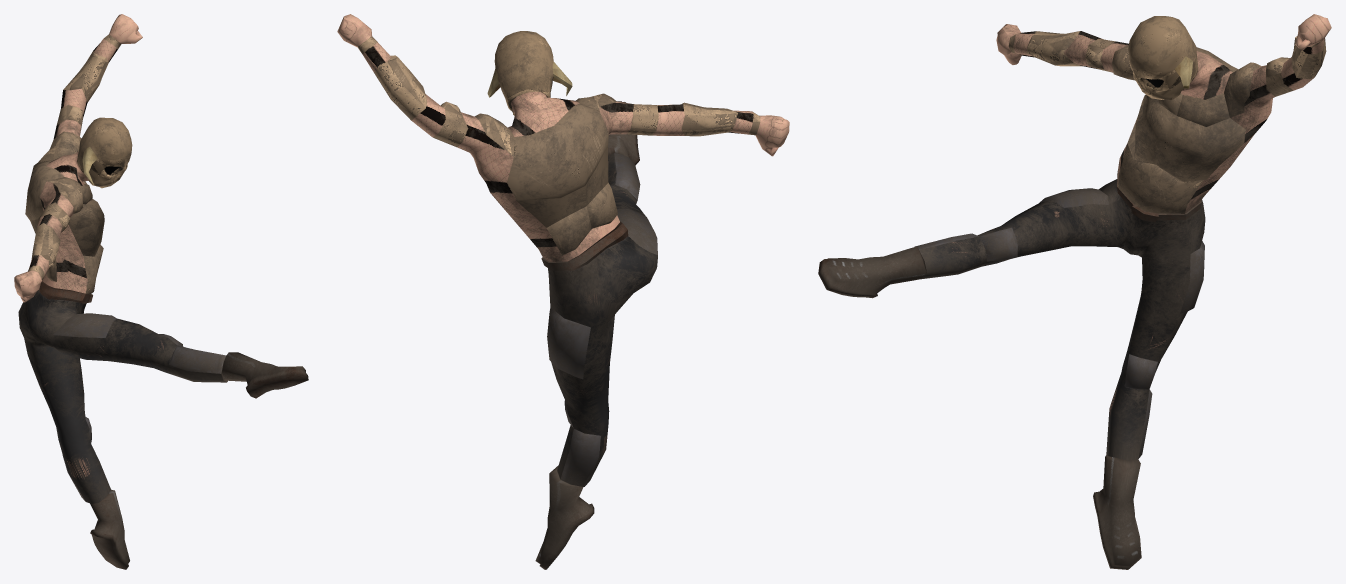
The model's file is Anim_ataque_f3_npc1.0027.obj.
3 renders of one model, left to right at view 1: azimuth 30°, elevation 25°; view 2: azimuth 150°, elevation 25°; view 3: azimuth 270°, elevation 25°, orthographic. The views are drawn at different scales.
Visible parts, largest first — view 1: NPC2; view 2: NPC2; view 3: NPC2.
Boxes of the visible parts, x1,y1,x2,y2 form: NPC2: (14,14,308,569); NPC2: (337,14,789,569); NPC2: (818,14,1331,569).
Size of the model in its own units: 5.65 by 10.7 by 8.24.
